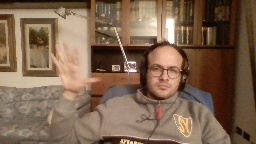Mano_aperta: (47, 39, 102, 94)
